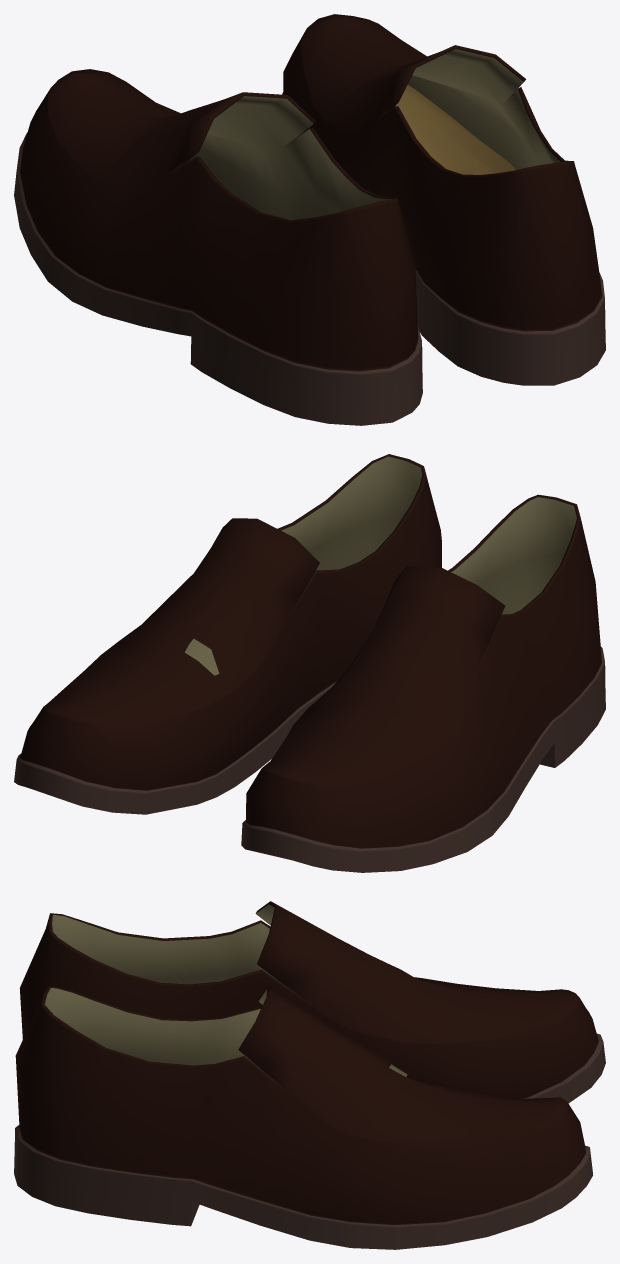
Rendered from Zapatos_Cafes.fbx.
3 views of the same model, one above another, from view 1: azimuth 30°, elevation 25°; view 2: azimuth 150°, elevation 25°; view 3: azimuth 270°, elevation 25° (orthographic). The views are drawn at different scales.
Parts seen in each view (by area): view 1: Zapatos; view 2: Zapatos; view 3: Zapatos.
Boxes of the visible parts, box(x1,y1,x2,y2) form: Zapatos: box(14, 14, 605, 425); Zapatos: box(14, 454, 605, 872); Zapatos: box(14, 901, 605, 1249).
Bounding box in the file's own units: 2219 × 1048 × 2830.
